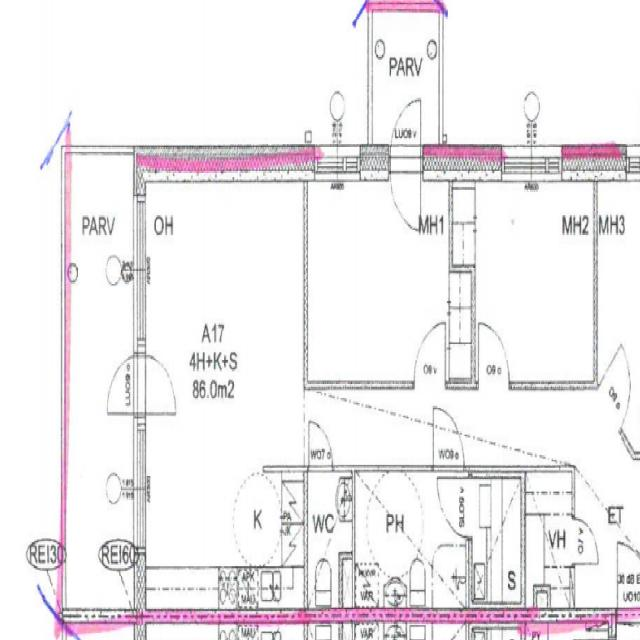door: (597, 344, 640, 431), (391, 88, 420, 182), (391, 145, 420, 237), (133, 356, 176, 414), (104, 356, 146, 414), (414, 323, 446, 389), (437, 478, 472, 538), (433, 406, 464, 472), (478, 323, 509, 389), (617, 546, 640, 623), (309, 421, 332, 472), (537, 424, 560, 472)
